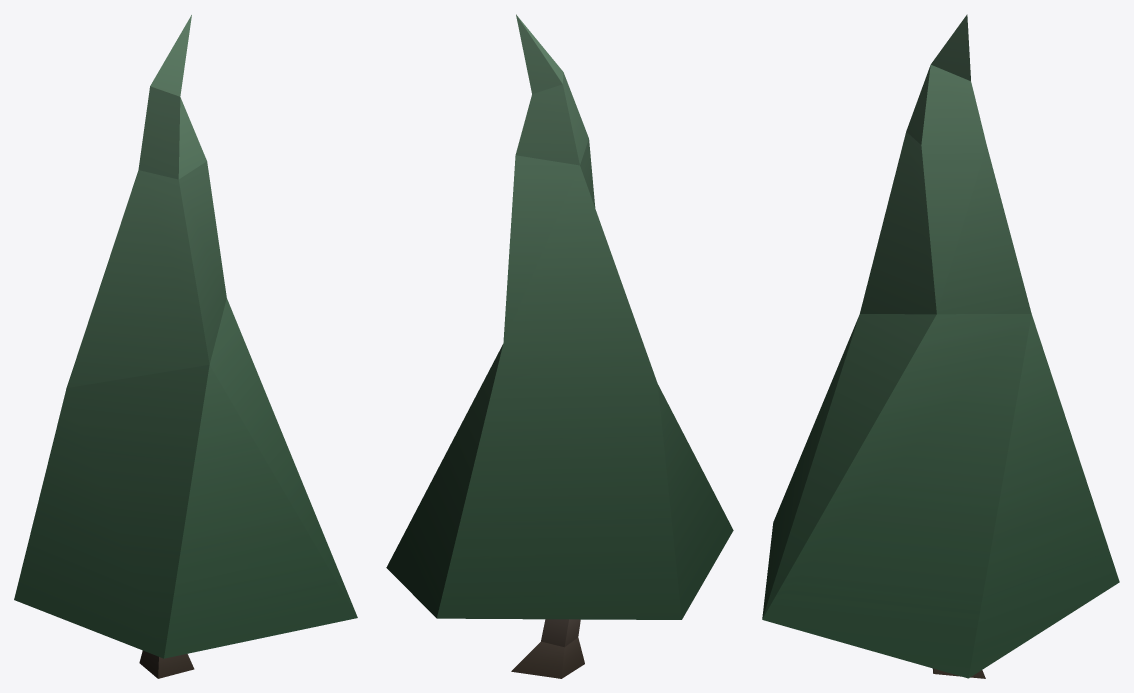
File: tree01_mdl.FBX
3 views of the same model, side by side, from view 1: azimuth 30°, elevation 25°; view 2: azimuth 150°, elevation 25°; view 3: azimuth 270°, elevation 25° (orthographic). The views are drawn at different scales.
Visible parts, largest first — view 1: Tree1; view 2: Tree1; view 3: Tree1.
Part boxes in pixels (x1=…): Tree1: x1=14, y1=15, x2=357, y2=678; Tree1: x1=386, y1=14, x2=733, y2=678; Tree1: x1=762, y1=14, x2=1119, y2=678.
Bounding box in the file's own units: 3.4 × 6.99 × 3.4.
Materials: 1 (1 with a texture image).
